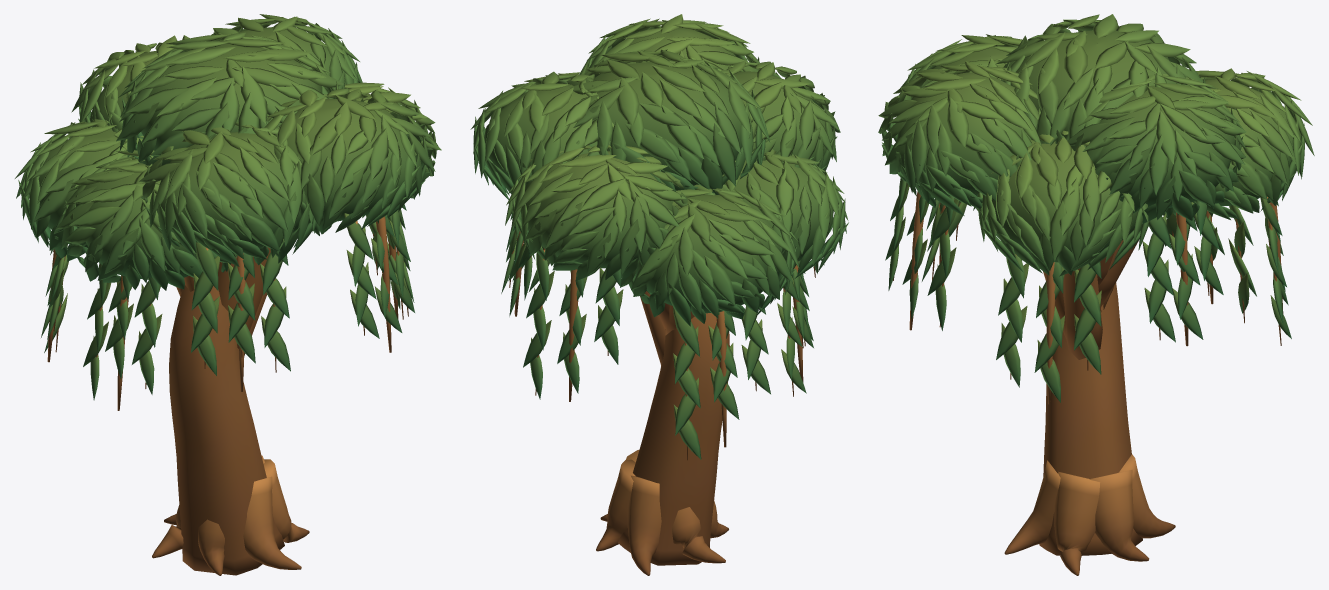
File: weeping_willow.glb
3 renders of one model, left to right at view 1: azimuth 30°, elevation 25°; view 2: azimuth 150°, elevation 25°; view 3: azimuth 270°, elevation 25°, orthographic. The views are drawn at different scales.
Parts seen in each view (by area): view 1: Foliage, Wood; view 2: Foliage, Wood; view 3: Foliage, Wood.
Boxes of the visible parts, bbox=[...] form: Foliage: bbox=[15, 14, 441, 400]; Wood: bbox=[47, 216, 408, 575]; Foliage: bbox=[470, 14, 848, 459]; Wood: bbox=[509, 231, 815, 575]; Foliage: bbox=[878, 14, 1314, 402]; Wood: bbox=[893, 191, 1283, 575].
Bounding box in the file's own units: 3.57 × 4.83 × 3.69.
